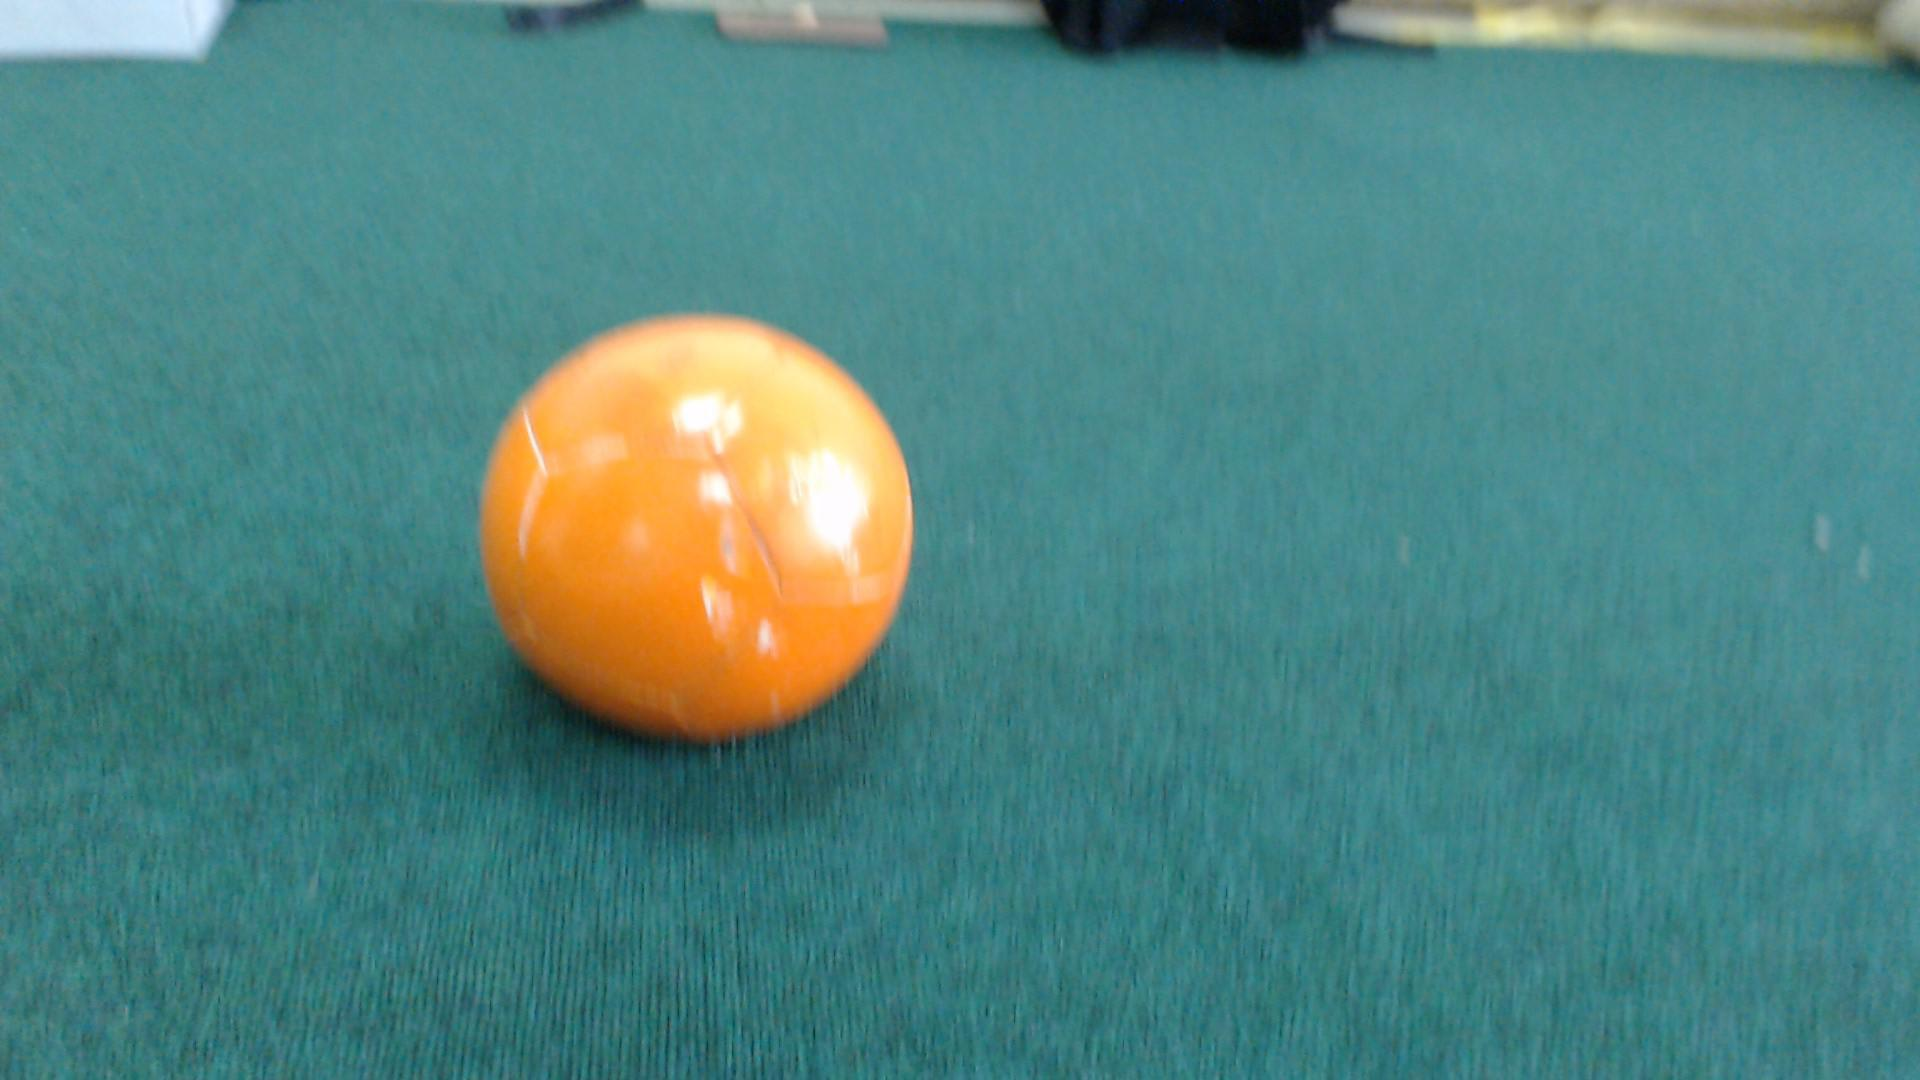bola: (442, 294, 939, 753)
